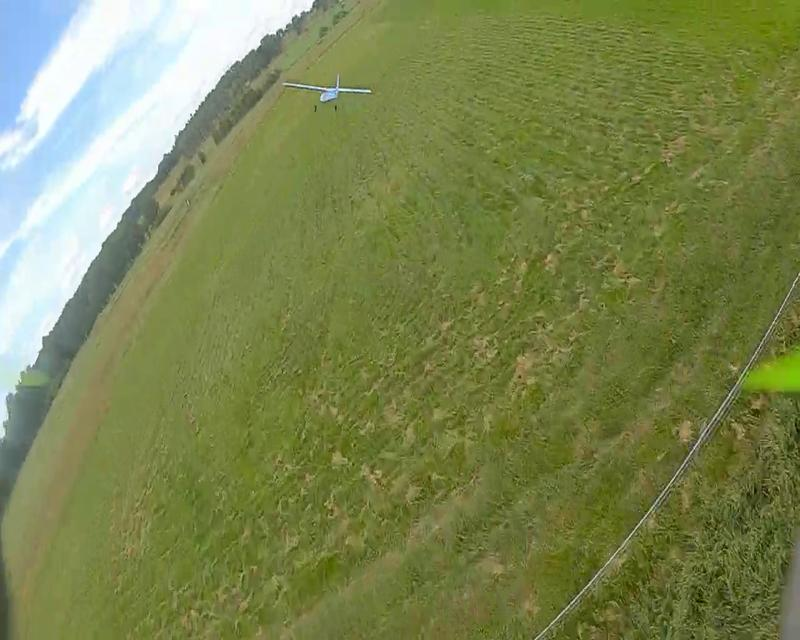UAV: (282, 74, 372, 112)
